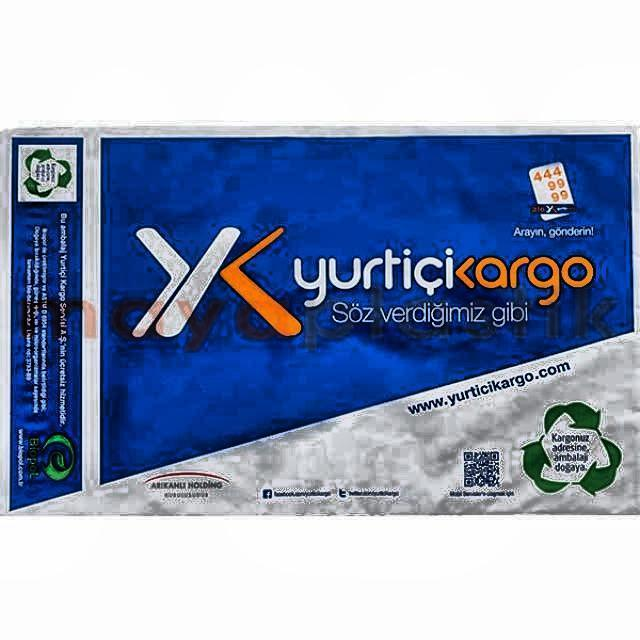plastic: (1, 126, 640, 519)
